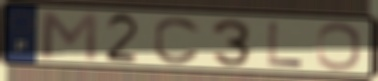2: (103, 12, 143, 64)
3: (209, 17, 253, 68)
C: (152, 15, 203, 66)
L: (265, 20, 305, 69)
M: (37, 9, 100, 63)
O: (314, 21, 364, 73)
